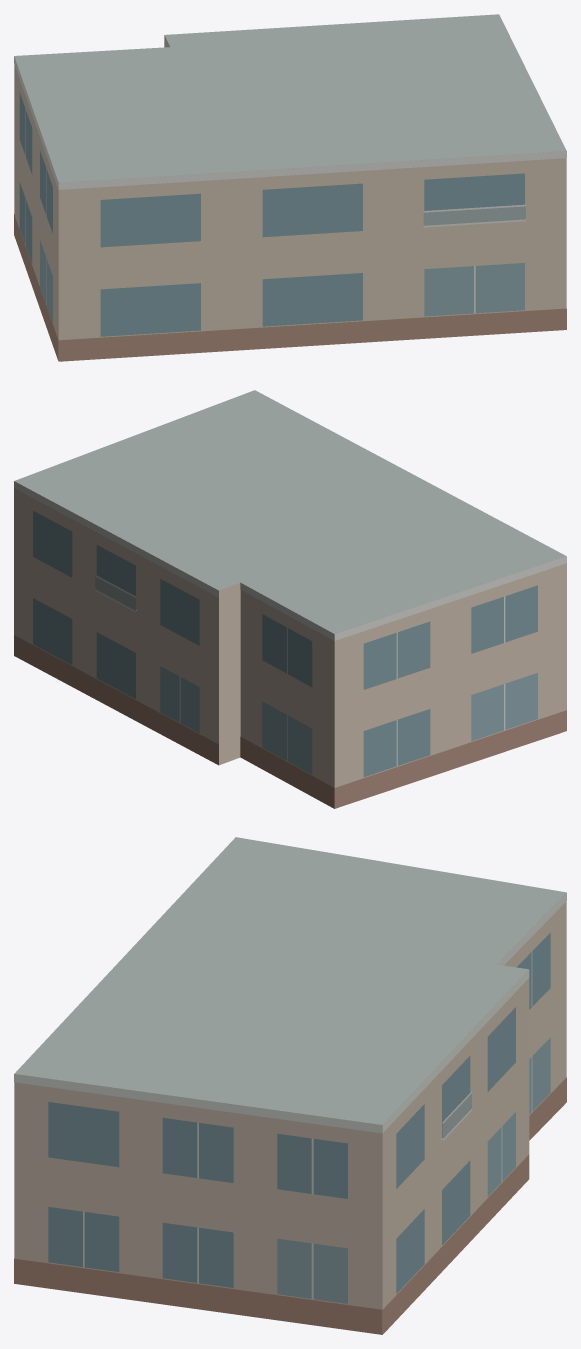
File: survey-upis-32875151.glb
The picture shows the model from 3 angles, top to bottom: view 1: azimuth 30°, elevation 25°; view 2: azimuth 150°, elevation 25°; view 3: azimuth 270°, elevation 25°; orthographic projection. The views are drawn at different scales.
Visible parts, largest first — view 1: survey-upis-32875151.tmp; view 2: survey-upis-32875151.tmp; view 3: survey-upis-32875151.tmp.
Boxes of the visible parts, box(x1,y1,x2,y2) form: survey-upis-32875151.tmp: box(14, 14, 566, 361); survey-upis-32875151.tmp: box(14, 390, 566, 808); survey-upis-32875151.tmp: box(14, 837, 566, 1334).
Bounding box in the file's own units: 17.96 × 6.1 × 14.57.
